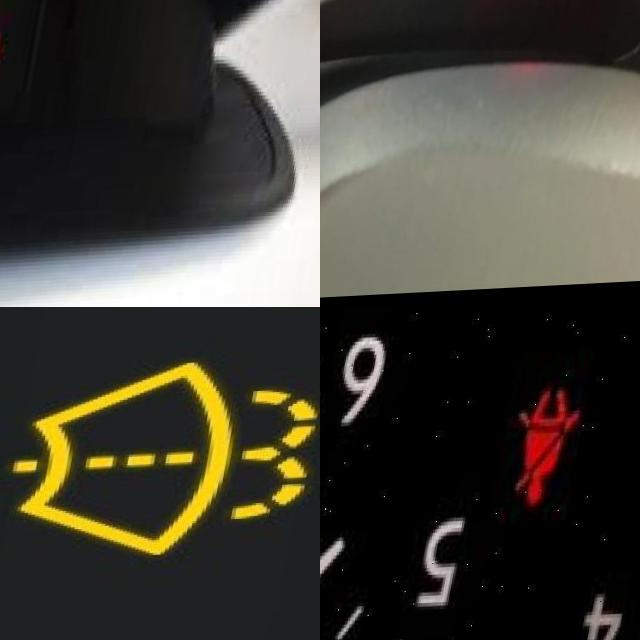Seat Belt: (525, 395, 590, 510)
Washer Fluid: (8, 356, 320, 571)
